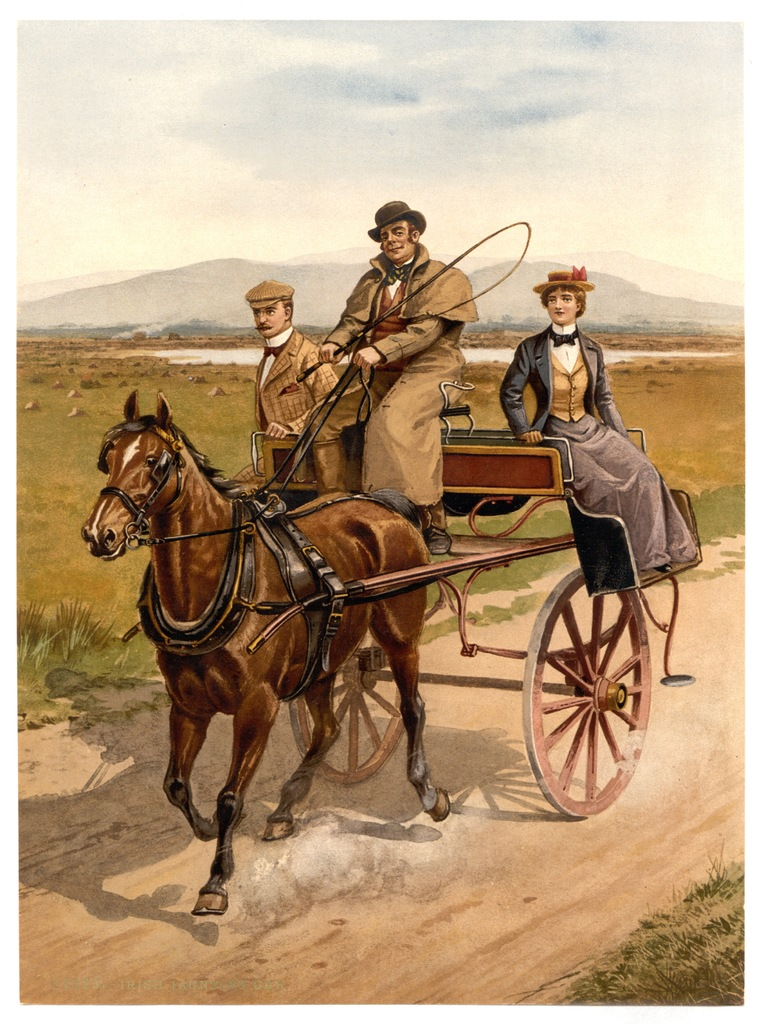Person: (295, 199, 483, 555), (497, 264, 698, 573), (227, 279, 342, 484)
